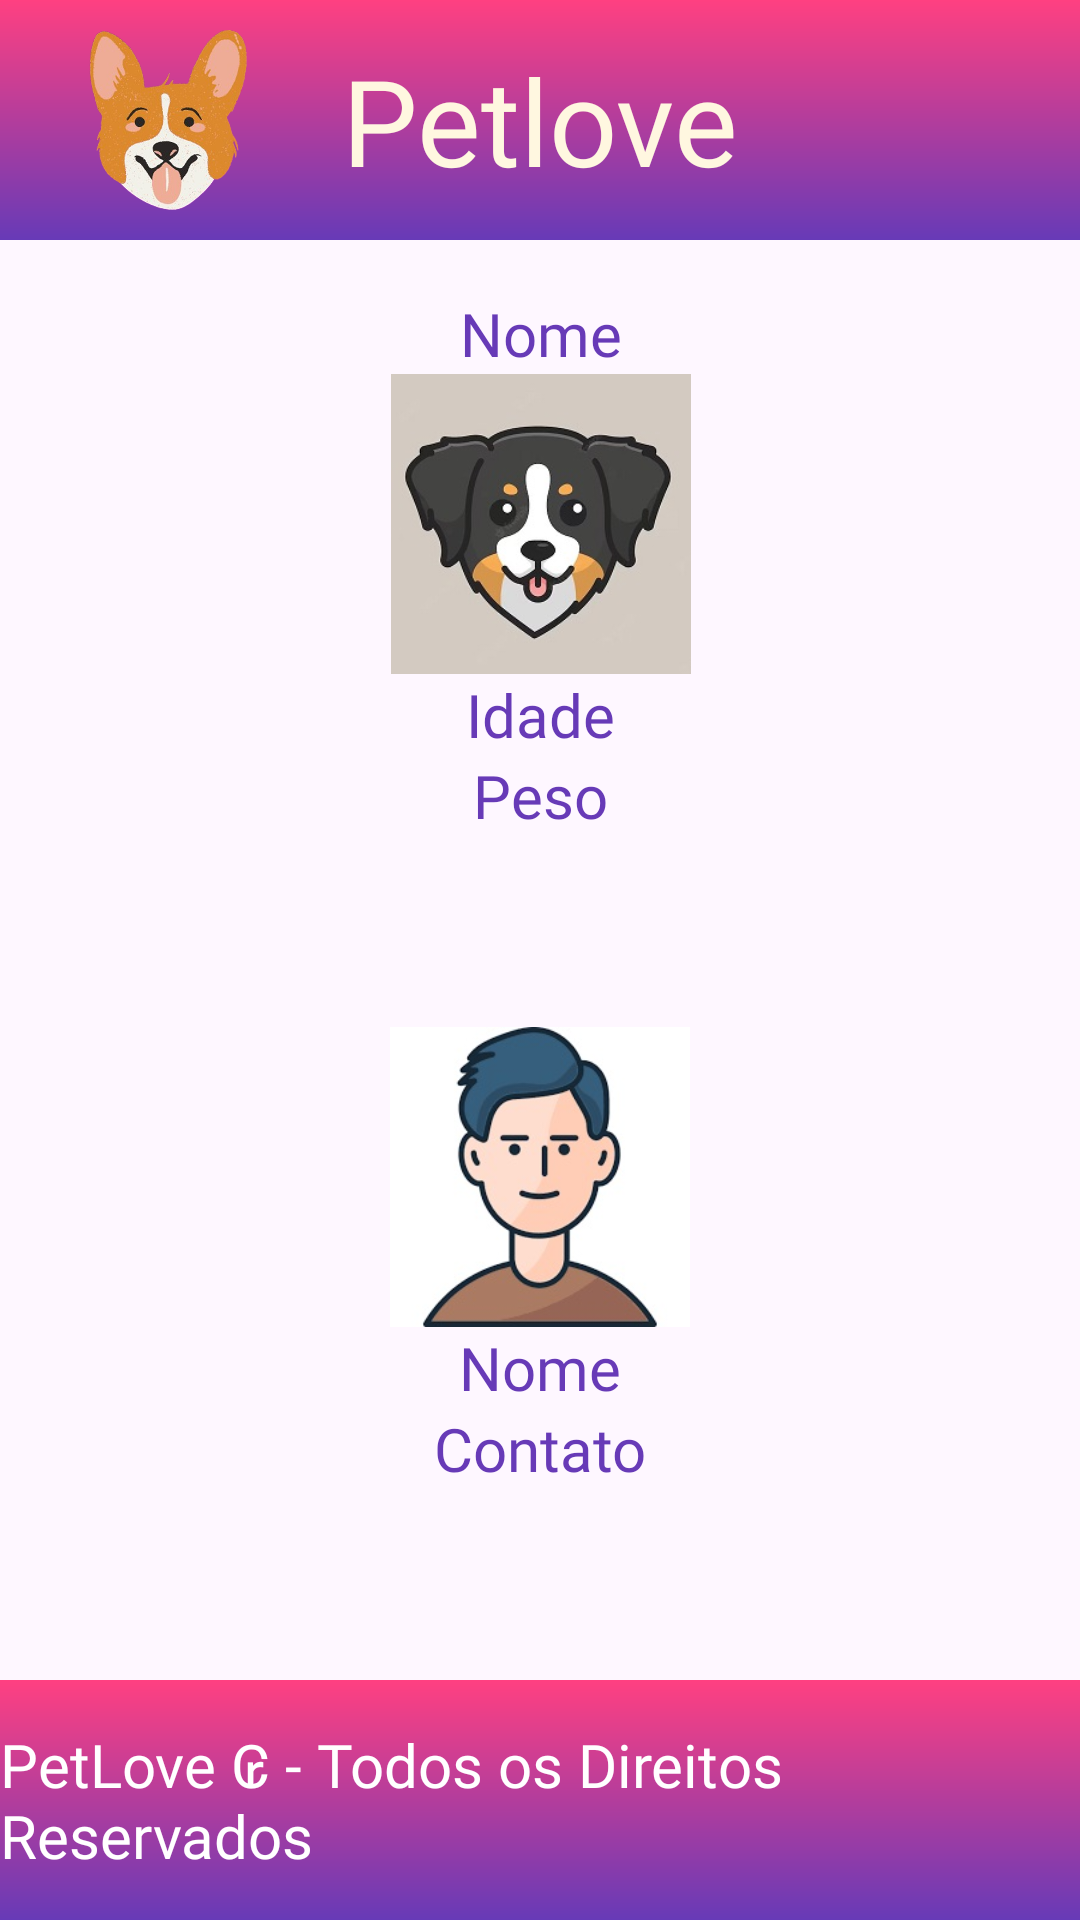

Screen size 1080×1920. Icon name, then its box in pixels as (x1, y1, x2, y2):
dog: (391, 374, 691, 674)
